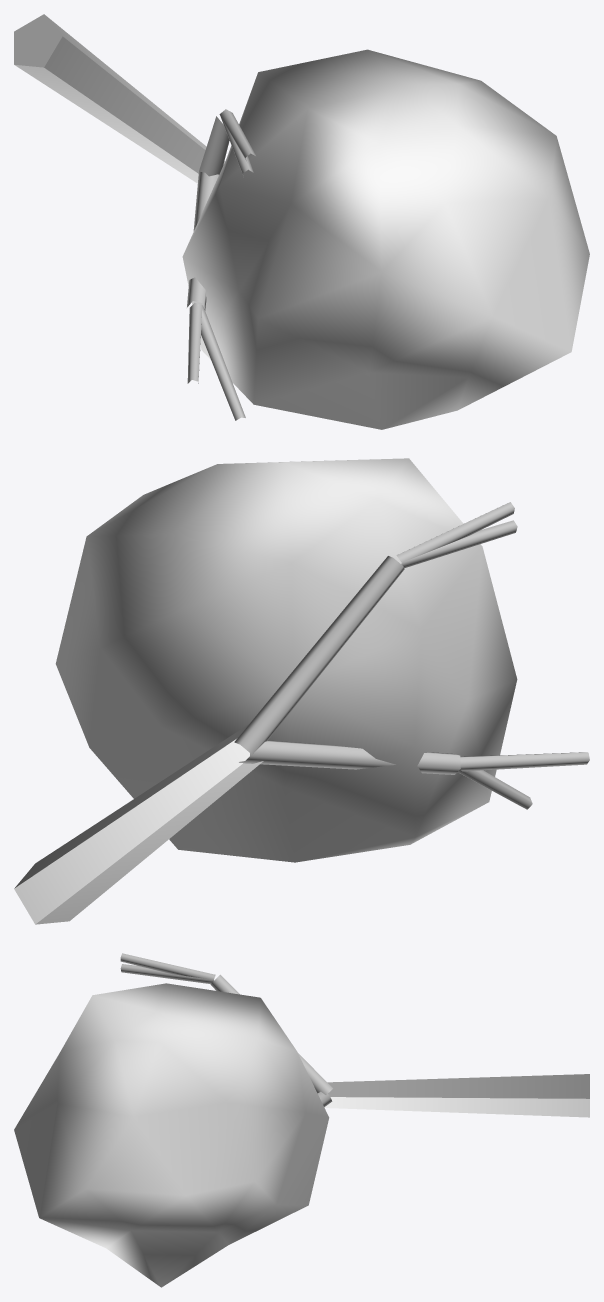
File: SM_Sakura_Tree_Mid.glb
3 views of the same model, one above another, from view 1: azimuth 30°, elevation 25°; view 2: azimuth 150°, elevation 25°; view 3: azimuth 270°, elevation 25° (orthographic). The views are drawn at different scales.
Parts seen in each view (by area): view 1: asset_sakura_tree_mid; view 2: asset_sakura_tree_mid; view 3: asset_sakura_tree_mid.
Part boxes in pixels (x1,y1,x2,y2): asset_sakura_tree_mid: (14,14,589,429); asset_sakura_tree_mid: (14,458,589,924); asset_sakura_tree_mid: (14,953,589,1287).
Size of the model in its own units: 2.41 by 1.91 by 3.95.
Materials: 2 (2 with a texture image).
